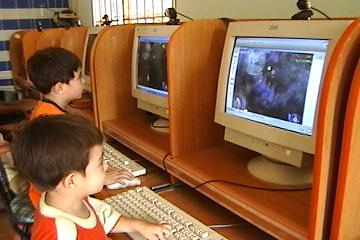person: (32, 115, 174, 240), (28, 48, 134, 211)
